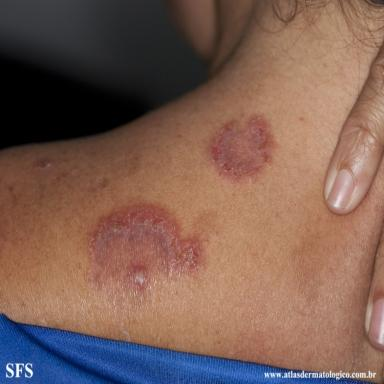Hailey-Hailey-Disease: (84, 201, 218, 303), (206, 112, 279, 184)
